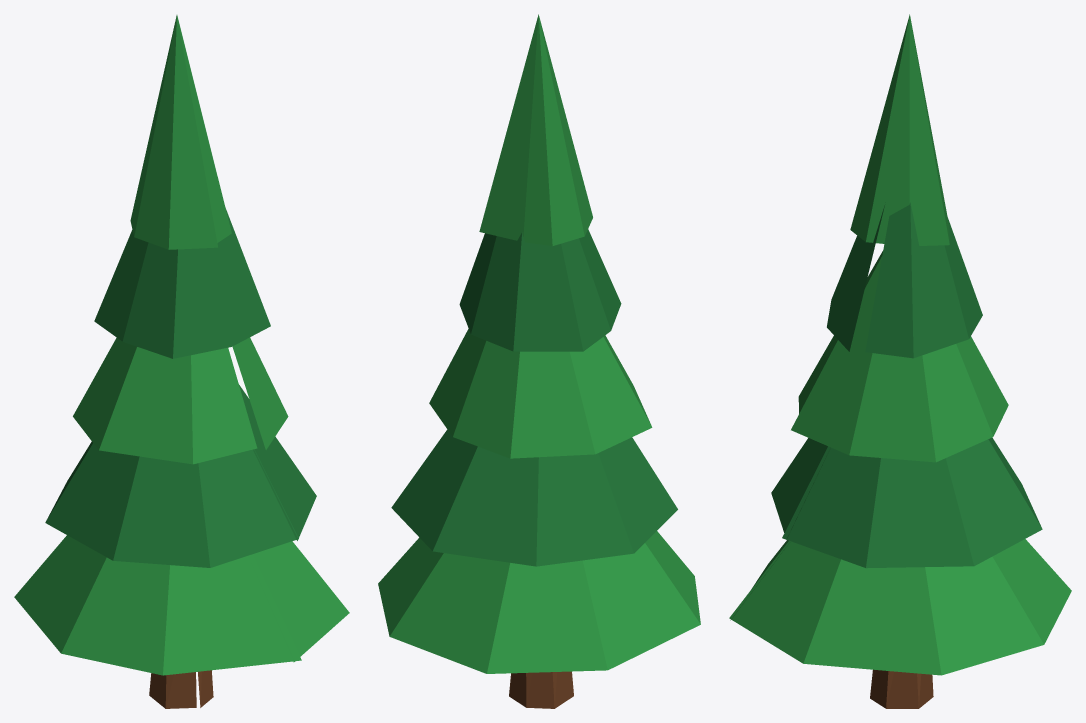
File: pino_alto_v3.glb
3 renders of one model, left to right at view 1: azimuth 30°, elevation 25°; view 2: azimuth 150°, elevation 25°; view 3: azimuth 270°, elevation 25°, orthographic.
Parts seen in each view (by area): view 1: copa_1, copa_2, copa_3, copa_4, copa_5, tronco; view 2: copa_1, copa_2, copa_3, copa_4, copa_5, tronco; view 3: copa_1, copa_2, copa_3, copa_4, copa_5, tronco.
Boxes of the visible parts, bbox=[...] form: copa_1: bbox=[14, 535, 349, 675]; copa_2: bbox=[45, 385, 316, 567]; copa_3: bbox=[73, 337, 288, 464]; copa_4: bbox=[94, 208, 270, 358]; copa_5: bbox=[130, 15, 231, 249]; tronco: bbox=[149, 670, 213, 708]; copa_1: bbox=[378, 531, 700, 673]; copa_2: bbox=[391, 429, 677, 566]; copa_3: bbox=[429, 329, 652, 458]; copa_4: bbox=[459, 229, 621, 351]; copa_5: bbox=[479, 14, 592, 246]; tronco: bbox=[509, 671, 573, 708]; copa_1: bbox=[729, 539, 1071, 675]; copa_2: bbox=[771, 437, 1042, 568]; copa_3: bbox=[791, 250, 1008, 462]; copa_4: bbox=[827, 202, 982, 358]; copa_5: bbox=[850, 14, 949, 245]; tronco: bbox=[870, 669, 933, 708].
Bounding box in the file's own units: 3.24 × 7.46 × 3.39.
